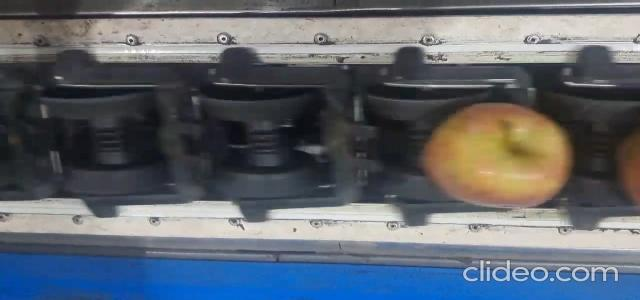apple: (422, 103, 572, 207)
